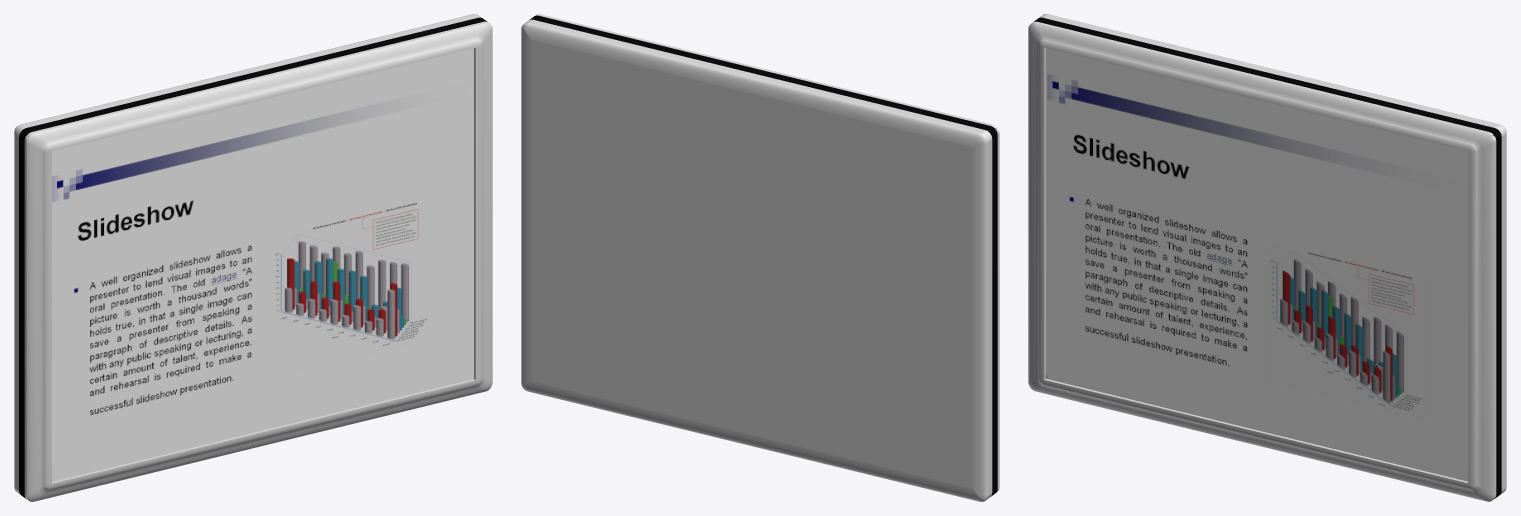
File: Tarjeta_4_tercios.FBX
The picture shows the model from 3 angles, left to right: view 1: azimuth 30°, elevation 25°; view 2: azimuth 150°, elevation 25°; view 3: azimuth 330°, elevation 25°; orthographic projection.
Visible parts, largest first — view 1: Box02, ChamferBox, Rectangle01, Rectangle03; view 2: Rectangle03, Rectangle01, ChamferBox; view 3: Box02, ChamferBox, Rectangle01, Rectangle03.
Boxes of the visible parts, <box> form: Box02: <box>52,48,473,481</box>; ChamferBox: <box>24,21,492,501</box>; Rectangle01: <box>19,17,487,499</box>; Rectangle03: <box>14,14,481,494</box>; Rectangle03: <box>521,19,992,501</box>; Rectangle01: <box>529,15,997,496</box>; ChamferBox: <box>535,14,999,492</box>; Box02: <box>1046,48,1467,481</box>; ChamferBox: <box>1028,21,1496,501</box>; Rectangle01: <box>1034,17,1501,499</box>; Rectangle03: <box>1039,14,1506,493</box>.
Bounding box in the file's own units: 412 × 311 × 29.79.
2 materials, 1 textured.
